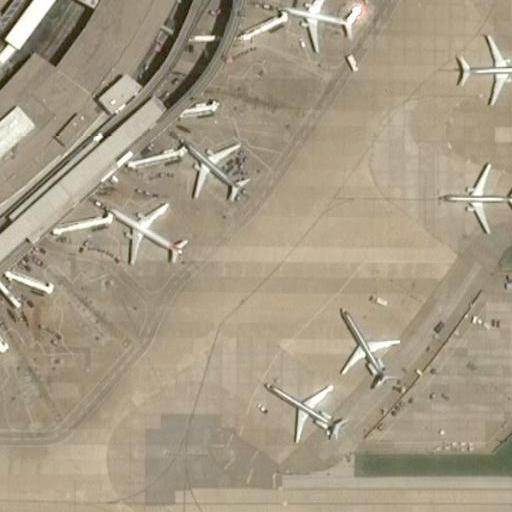Aircraft: (262, 375, 347, 443), (331, 305, 401, 387), (106, 202, 191, 266), (437, 163, 507, 229), (179, 137, 249, 198), (449, 32, 512, 99), (281, 0, 359, 51)
